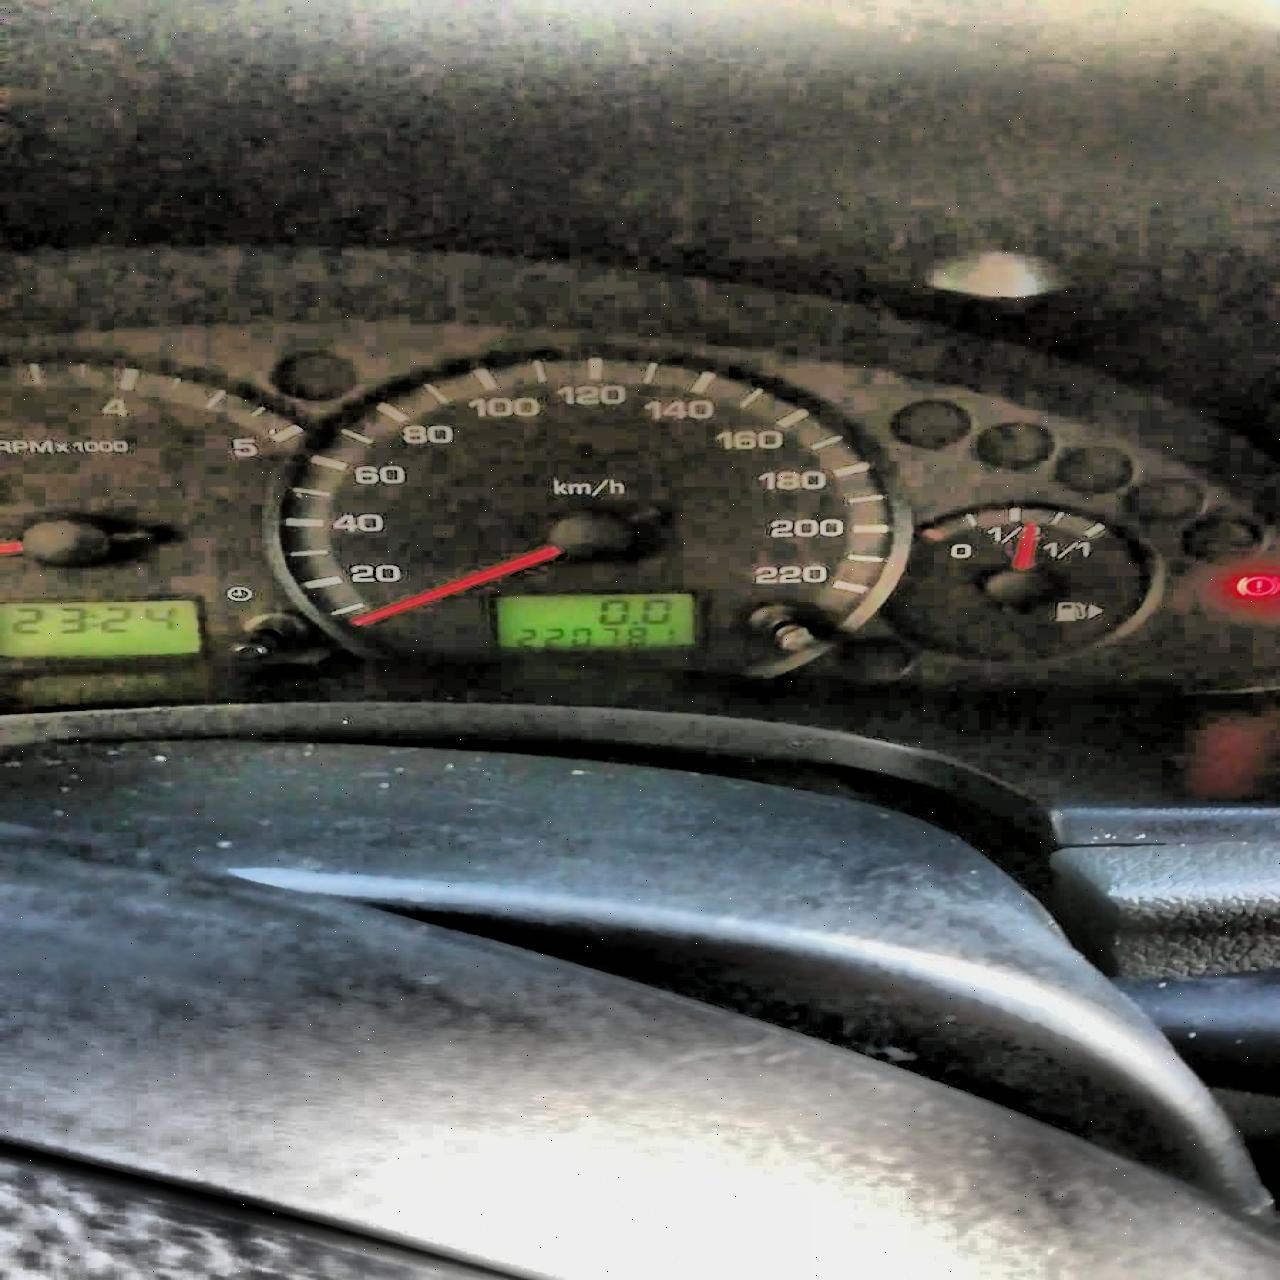-: (628, 620, 639, 625)
0: (641, 598, 673, 624), (597, 599, 628, 625), (570, 628, 591, 646)
1: (663, 625, 675, 646)
2: (516, 628, 537, 646), (543, 628, 563, 646)
7: (599, 627, 620, 646)
8: (624, 626, 647, 646)
odometer: (484, 588, 704, 651)
